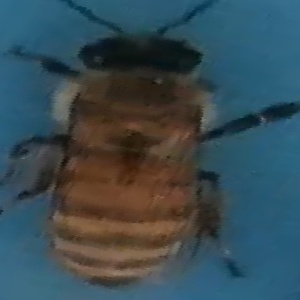bee: (2, 4, 295, 290)
